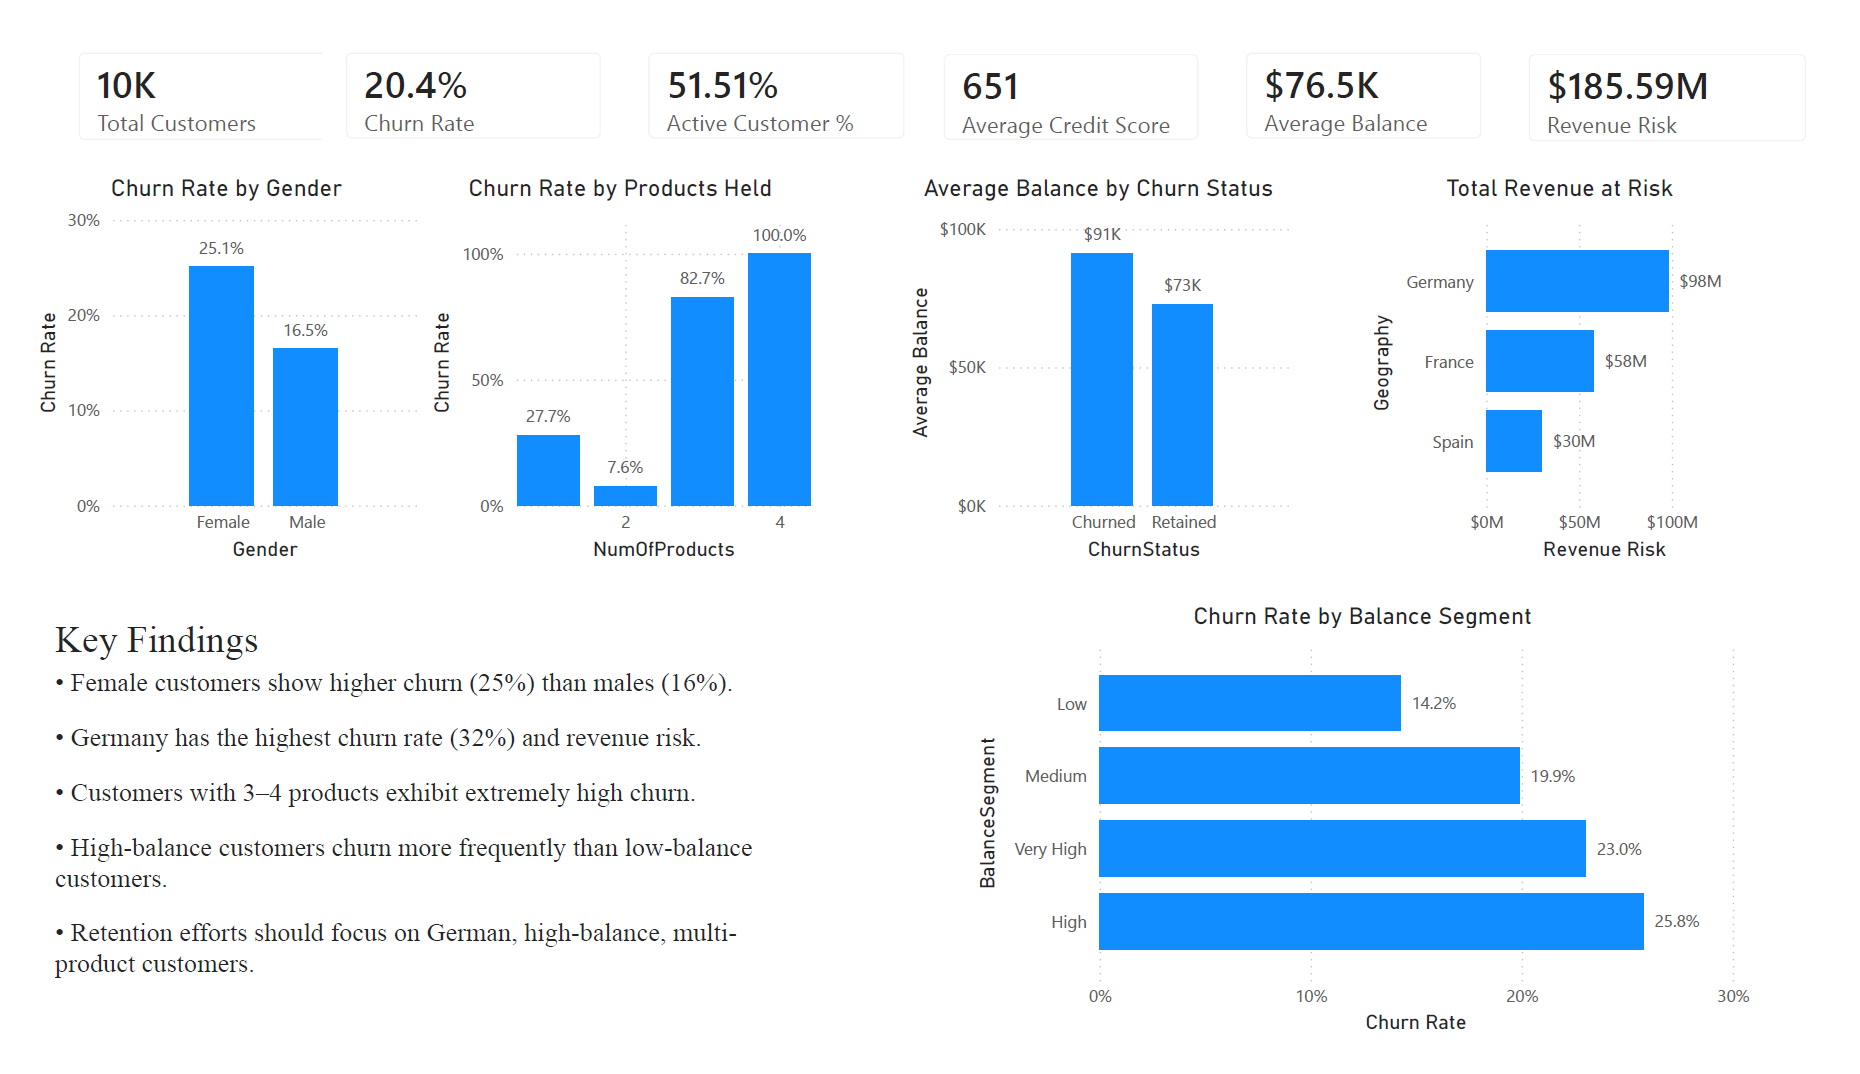

The page's visual inventory and layout, read from the dashboard file:
{"tool":"powerbi","page":{"name":"Customer Churn Deep Dive","canvas":[1280,720],"ordinal":1},"visuals":[{"type":"clusteredColumnChart","fields":{"Category":["cleaned_churn_data.Gender"],"Y":["cleaned_churn_data.Churn Rate"]},"box":[0,102.9,280,280],"z":0},{"type":"clusteredColumnChart","title":"Churn Rate by Products Held","fields":{"Category":["cleaned_churn_data.NumOfProducts"],"Y":["cleaned_churn_data.Churn Rate"]},"box":[280,102.9,280,280],"z":1000},{"type":"clusteredBarChart","title":"Churn Rate by Balance Segment","fields":{"Category":["cleaned_churn_data.BalanceSegment"],"Y":["cleaned_churn_data.Churn Rate"]},"box":[668.3,406.7,560,313.3],"z":2000},{"type":"clusteredColumnChart","title":"Average Balance by Churn Status","fields":{"Category":["cleaned_churn_data.ChurnStatus"],"Y":["cleaned_churn_data.Average Balance"]},"box":[620,103.3,280,280],"z":3000},{"type":"clusteredBarChart","title":"Total Revenue at Risk","fields":{"Category":["cleaned_churn_data.Geography"],"Y":["cleaned_churn_data.Revenue Risk"]},"box":[948.3,103.3,280,280],"z":4000},{"type":"textbox","title":"Key Findings","box":[12.9,418.6,534.3,301.4],"z":5000},{"type":"cardVisual","fields":{"Data":["cleaned_churn_data.Total Customers"]},"box":[17.5,0.4,215.5,95.3],"z":6000},{"type":"cardVisual","fields":{"Data":["cleaned_churn_data.Churn Rate"]},"box":[207.9,0,215.3,95.2],"z":7000},{"type":"cardVisual","fields":{"Data":["cleaned_churn_data.Average Balance"]},"box":[848.1,0,200.7,95.2],"z":8000},{"type":"cardVisual","fields":{"Data":["cleaned_churn_data.Revenue Risk"]},"box":[1048.7,1.3,231.4,95.2],"z":9000},{"type":"cardVisual","fields":{"Data":["cleaned_churn_data.Active Customer %"]},"box":[423.3,0,215.3,95.2],"z":10000},{"type":"cardVisual","fields":{"Data":["cleaned_churn_data.Average Credit Score"]},"box":[632.7,0.7,215.3,95.2],"z":11000}]}

Visuals, with their boxes in screenshot pixels (x1, y1, x2, y2), scaled from the page's 1280x720 canvas onto the 1860x1074 screenshot:
clusteredColumnChart - cleaned_churn_data.Gender x cleaned_churn_data.Churn Rate: <box>0,153,407,571</box>
"Churn Rate by Products Held" clusteredColumnChart: <box>407,153,814,571</box>
"Churn Rate by Balance Segment" clusteredBarChart: <box>971,607,1785,1073</box>
"Average Balance by Churn Status" clusteredColumnChart: <box>901,154,1308,572</box>
"Total Revenue at Risk" clusteredBarChart: <box>1378,154,1785,572</box>
"Key Findings" textbox: <box>19,624,795,1073</box>
cardVisual - cleaned_churn_data.Total Customers: <box>25,1,339,143</box>
cardVisual - cleaned_churn_data.Churn Rate: <box>302,0,615,142</box>
cardVisual - cleaned_churn_data.Average Balance: <box>1232,0,1524,142</box>
cardVisual - cleaned_churn_data.Revenue Risk: <box>1524,2,1859,144</box>
cardVisual - cleaned_churn_data.Active Customer %: <box>615,0,928,142</box>
cardVisual - cleaned_churn_data.Average Credit Score: <box>919,1,1232,143</box>
